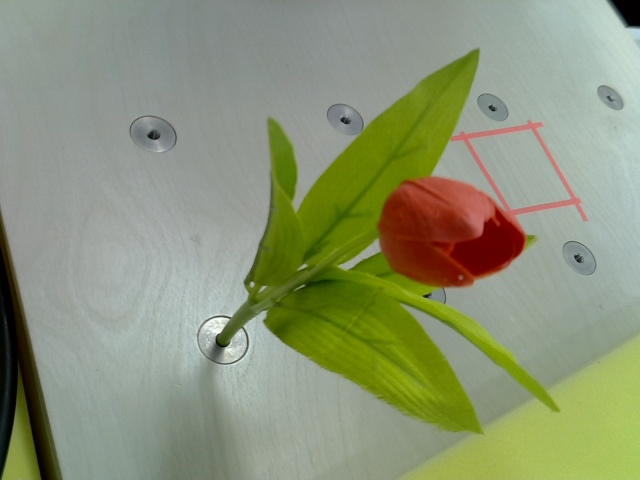튤립: (377, 176, 527, 286)
